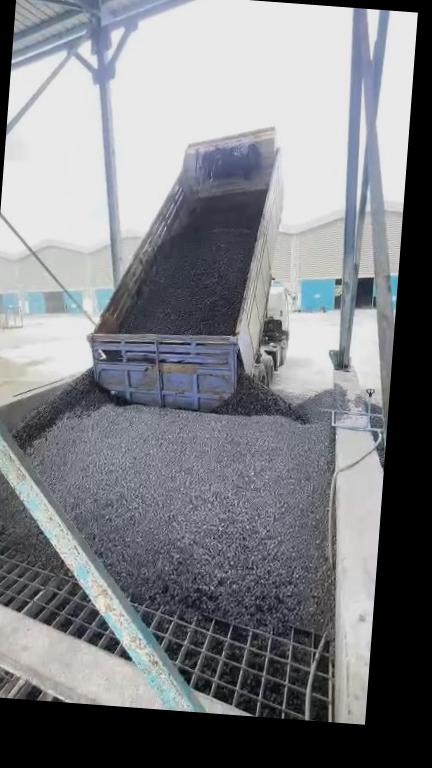gravel: (15, 372, 350, 632), (122, 192, 266, 334), (0, 456, 60, 567)
sand: (0, 349, 59, 405)
